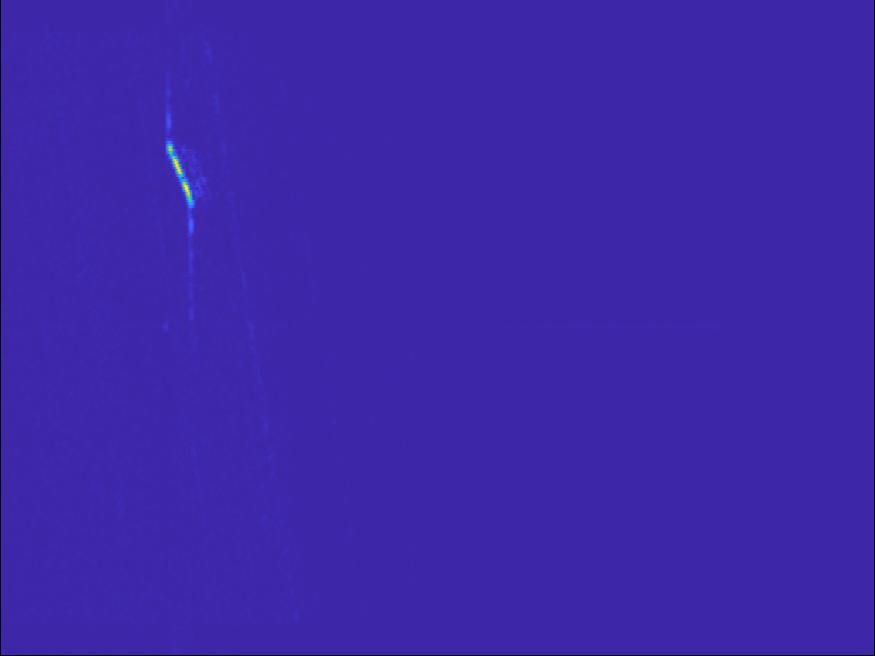Interference: (541, 220, 777, 419), (48, 73, 180, 117), (194, 403, 274, 442)
